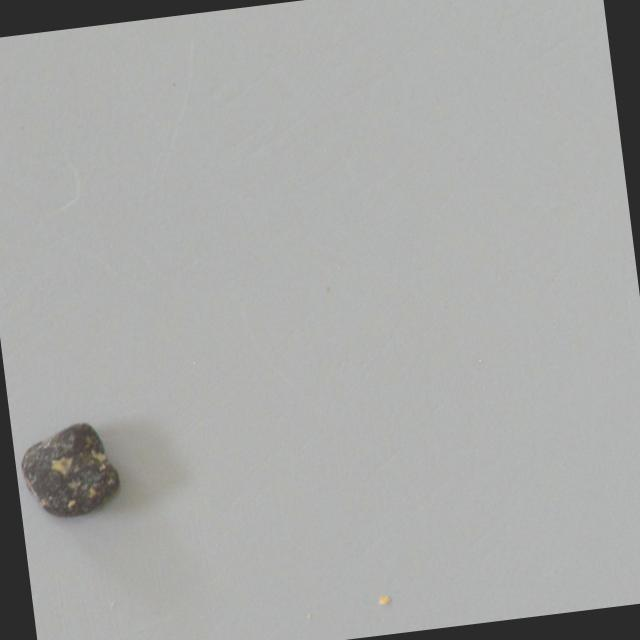cuerpos_extranos: (15, 414, 129, 528)
